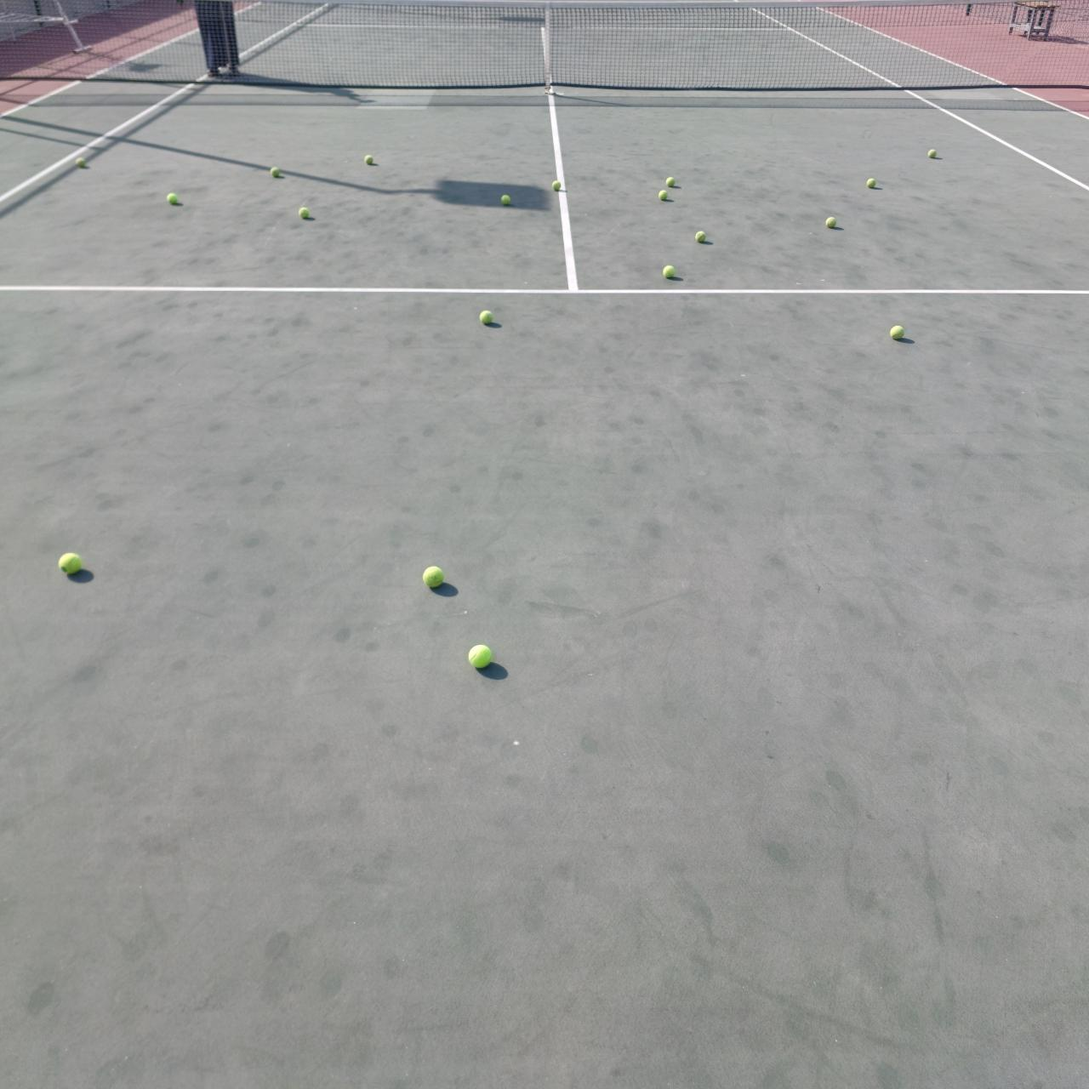tennis-ball: (466, 641, 493, 669), (57, 550, 83, 574), (421, 563, 444, 588), (888, 322, 904, 339), (478, 308, 493, 324), (661, 263, 675, 277), (298, 205, 311, 219), (165, 192, 179, 205), (693, 229, 706, 242), (824, 214, 836, 227), (500, 194, 512, 206), (866, 178, 877, 188), (658, 190, 668, 201), (364, 154, 374, 165), (75, 157, 85, 168), (552, 181, 562, 191), (270, 167, 280, 177), (666, 177, 675, 188), (928, 149, 936, 158)
